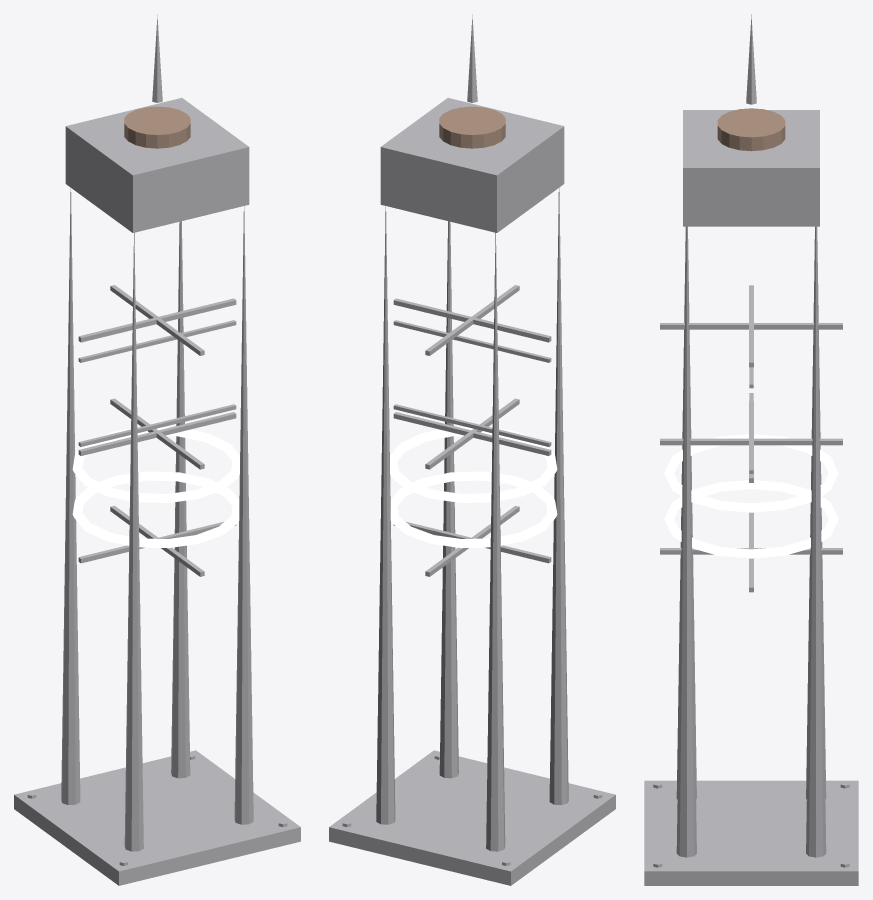
The model's file is derrick_rare.glb.
3 views of the same model, side by side, from view 1: azimuth 30°, elevation 25°; view 2: azimuth 150°, elevation 25°; view 3: azimuth 270°, elevation 25° (orthographic).
Parts seen in each view (by area): view 1: derrick; view 2: derrick; view 3: derrick.
Boxes of the visible parts, left/top/right/bottom form: derrick: left=14, top=14, right=300, bottom=885; derrick: left=329, top=14, right=615, bottom=885; derrick: left=644, top=14, right=858, bottom=885.
Bounding box in the file's own units: 2.11 × 9 × 2.11.
